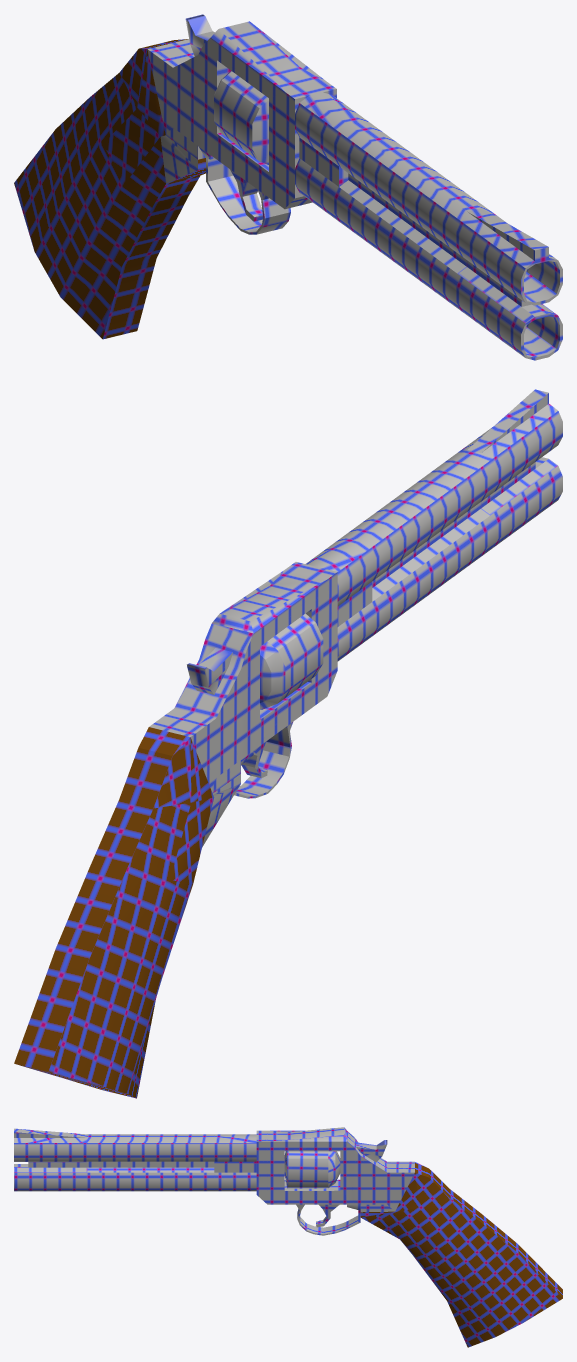
Rendered from Wepon03.fbx.
The picture shows the model from 3 angles, top to bottom: view 1: azimuth 30°, elevation 25°; view 2: azimuth 150°, elevation 25°; view 3: azimuth 270°, elevation 25°; orthographic projection. The views are drawn at different scales.
Visible parts, largest first — view 1: pCube11; view 2: pCube11; view 3: pCube11.
Boxes of the visible parts, left/top/right/bottom form: pCube11: left=14, top=14, right=562, bottom=360; pCube11: left=14, top=389, right=562, bottom=1098; pCube11: left=14, top=1127, right=562, bottom=1347.
Size of the model in its own units: 49.4 by 266 by 622.
Materials: 1 (1 with a texture image).
